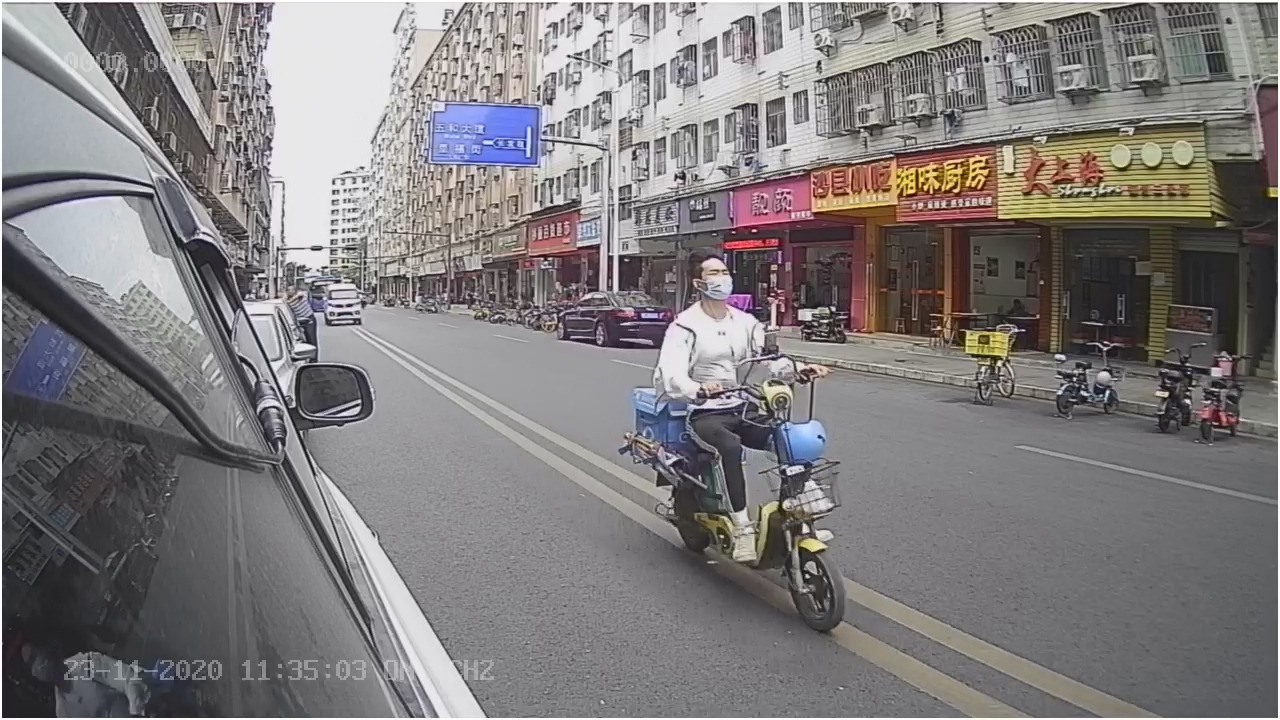person: (661, 237, 802, 398)
